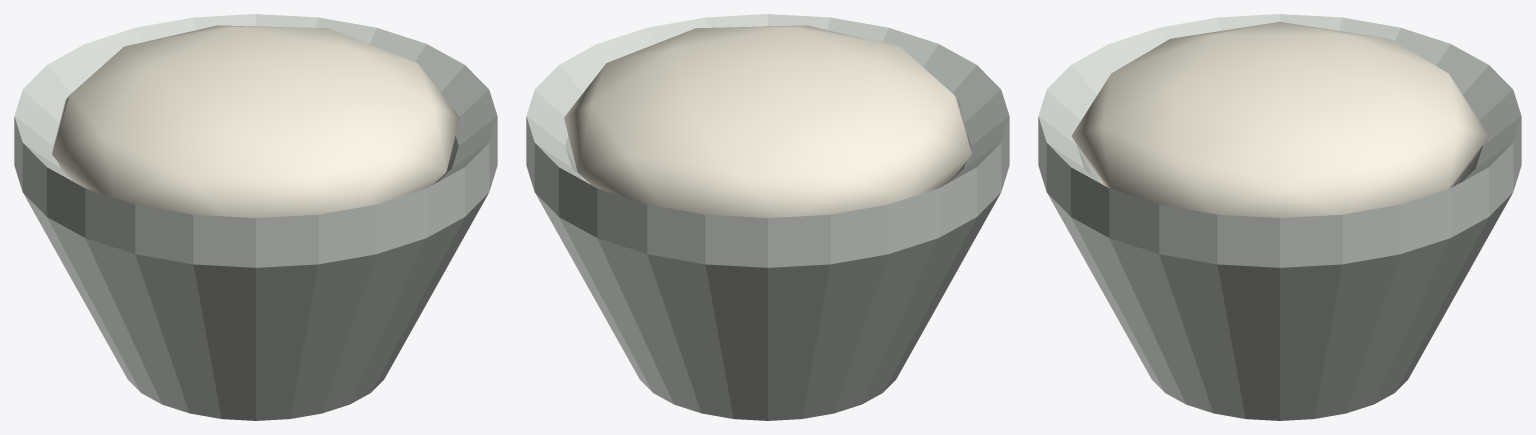
The model's file is Test_CheonRef_RiceBowl.fbx.
3 views of the same model, side by side, from view 1: azimuth 30°, elevation 25°; view 2: azimuth 150°, elevation 25°; view 3: azimuth 270°, elevation 25° (orthographic).
Parts seen in each view (by area): view 1: CeramicRiceBowl.001, SimpleRiceMound.001; view 2: CeramicRiceBowl.001, SimpleRiceMound.001; view 3: CeramicRiceBowl.001, SimpleRiceMound.001.
Boxes of the visible parts, x1,y1,x2,y2 form: CeramicRiceBowl.001: [14, 14, 497, 420]; SimpleRiceMound.001: [52, 25, 459, 217]; CeramicRiceBowl.001: [526, 14, 1009, 420]; SimpleRiceMound.001: [564, 25, 971, 217]; CeramicRiceBowl.001: [1038, 14, 1521, 420]; SimpleRiceMound.001: [1071, 21, 1488, 217].
Bounding box in the file's own units: 44 × 30.5 × 44.
